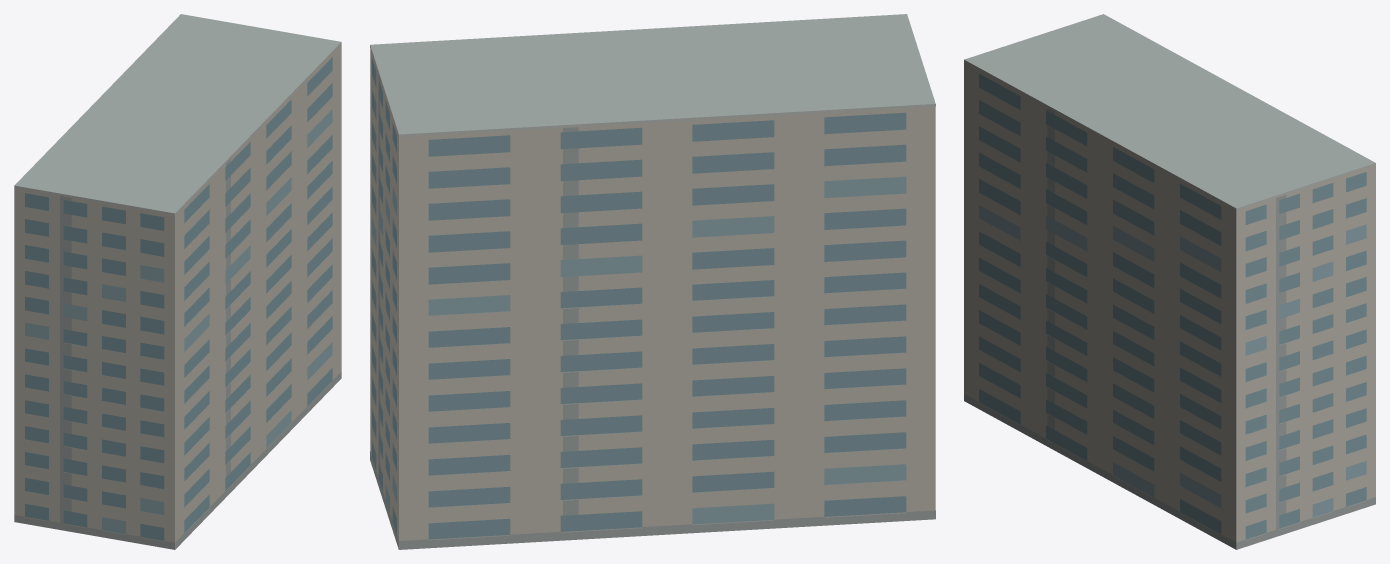
File: residential-0eff468e-3255-42c8-82b1-b8f87093c2e1.glb
3 renders of one model, left to right at view 1: azimuth 30°, elevation 25°; view 2: azimuth 150°, elevation 25°; view 3: azimuth 270°, elevation 25°, orthographic. The views are drawn at different scales.
Parts seen in each view (by area): view 1: residential-0eff468e-3255-42c8-82b1-b8f87093c2e1.tmp; view 2: residential-0eff468e-3255-42c8-82b1-b8f87093c2e1.tmp; view 3: residential-0eff468e-3255-42c8-82b1-b8f87093c2e1.tmp.
Boxes of the visible parts, box(x1,y1,x2,y2) form: residential-0eff468e-3255-42c8-82b1-b8f87093c2e1.tmp: box(14, 14, 341, 549); residential-0eff468e-3255-42c8-82b1-b8f87093c2e1.tmp: box(370, 14, 935, 549); residential-0eff468e-3255-42c8-82b1-b8f87093c2e1.tmp: box(964, 14, 1375, 549).
Size of the model in its own units: 42.76 by 35 by 38.27.
